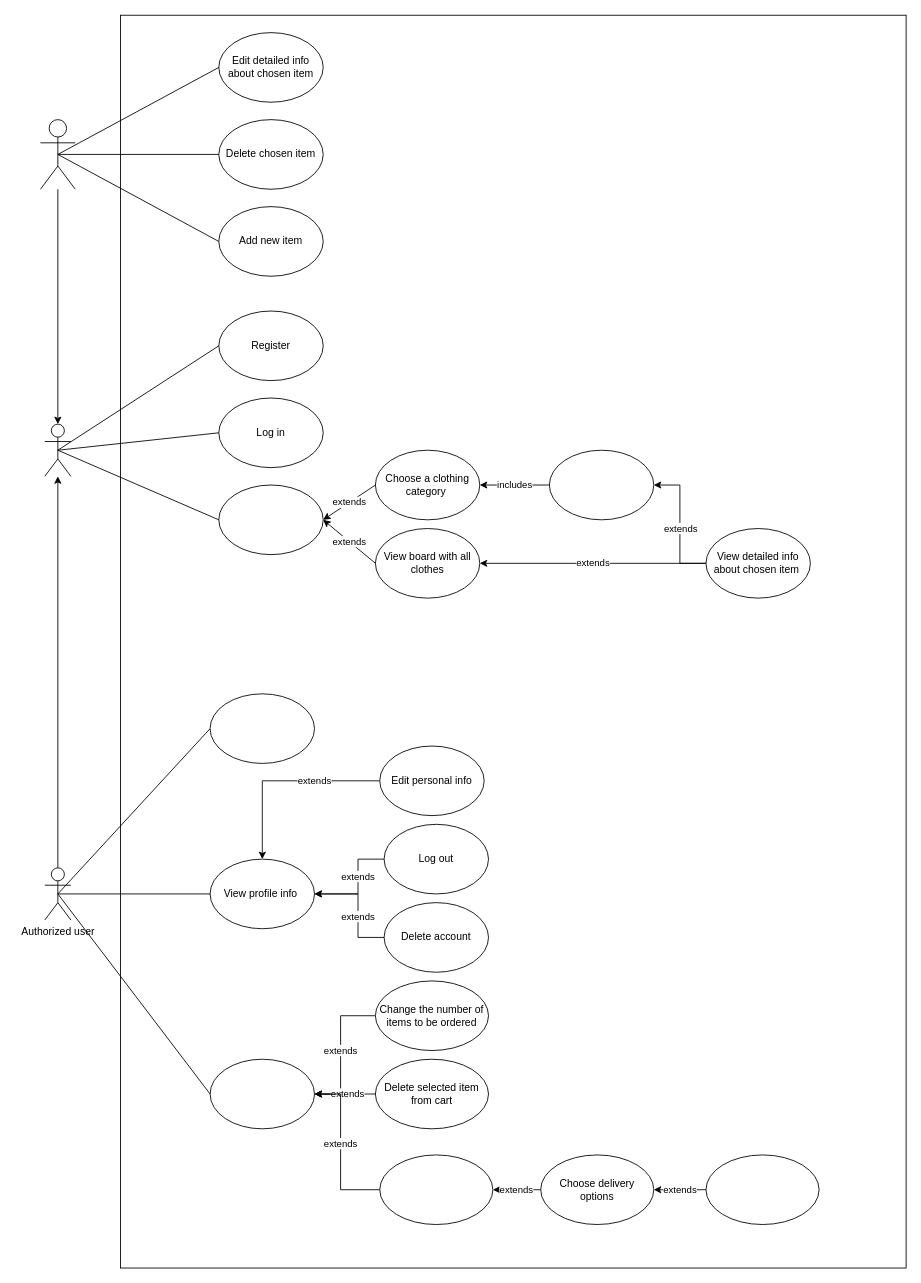
Image size: 921x1283. Some labels were removed from this diagram. Here are the shapes that lost their labels. From the top down, the centre of each, then its label:
At pixel 57 154: "Admin".
At pixel 57 449: "Unauthorized user".
At pixel 601 484: "View board with the clothes of the selected category".
At pixel 270 519: "View home page".
At pixel 262 728: "Add selected item to cart".
At pixel 262 1093: "View users cart".
At pixel 436 1189: "Checkout users cart".
At pixel 762 1189: "Complete transaction".
